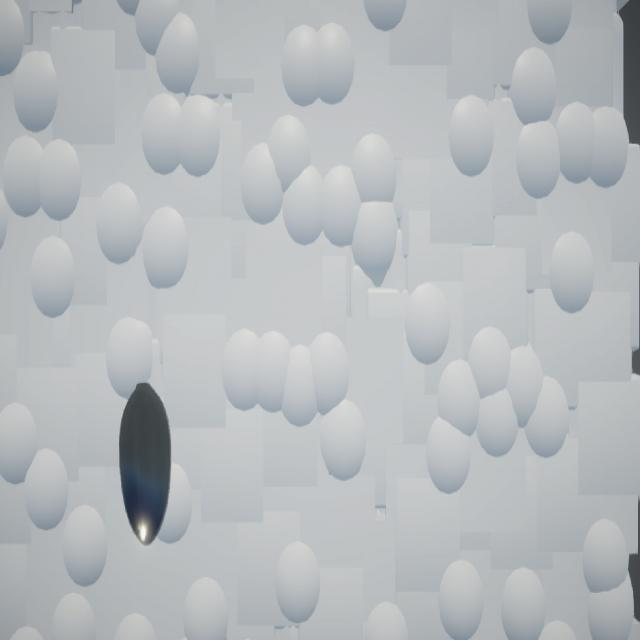top_spoon: (120, 383, 173, 547)
